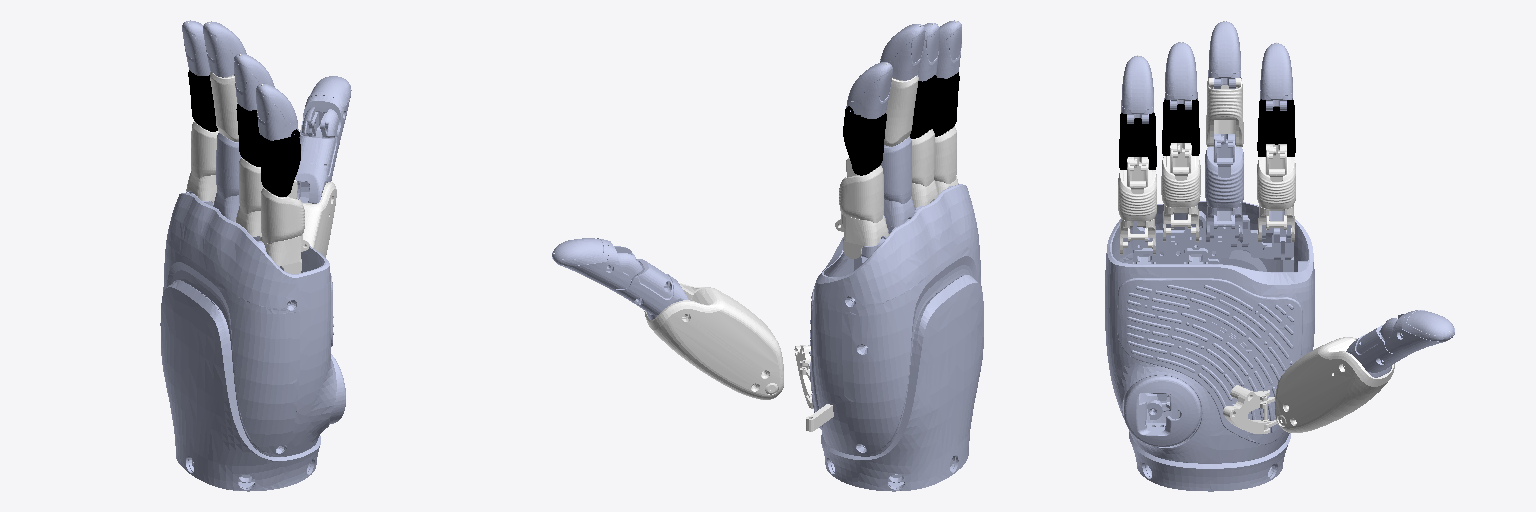
--- What the picture shows (computed from the rendered views, not written in the file) ---
3 views of the same robot in one strip: view 1: azimuth 30°, elevation 25°; view 2: azimuth 150°, elevation 25°; view 3: azimuth 270°, elevation 25° (orthographic).
Robot: O12-T2-r-URDF — 25 links, 24 joints (19 revolute, 5 fixed); root link hand_base_link; default pose: all joints at 0.
Visible links, largest first — view 1: hand_base_link, pinky_proximal, thumb_distal, thumb_proximal, pinky_middle, index_proximal, middle_proximal, pinky_distal, ring_proximal, thumb_metacarpals, middle_distal, middle_middle (+4 smaller); view 2: hand_base_link, thumb_metacarpals, index_proximal, thumb_distal, middle_proximal, index_middle, thumb_proximal, index_distal, middle_middle, middle_distal, ring_proximal, pinky_proximal (+5 smaller); view 3: hand_base_link, thumb_metacarpals, middle_proximal, ring_proximal, pinky_proximal, index_proximal, thumb_distal, middle_middle, pinky_distal, middle_distal, index_distal, ring_distal (+5 smaller).
Boxes of the visible links, x1,y1,x2,y2 form: hand_base_link: (160, 193, 345, 491); pinky_proximal: (260, 180, 309, 273); thumb_distal: (300, 76, 351, 142); thumb_proximal: (295, 127, 339, 203); pinky_middle: (259, 129, 300, 196); index_proximal: (186, 121, 218, 204); middle_proximal: (213, 132, 240, 220); pinky_distal: (256, 83, 298, 140); ring_proximal: (236, 157, 262, 239); thumb_metacarpals: (303, 182, 336, 257); middle_distal: (203, 21, 246, 77); middle_middle: (210, 72, 238, 141); hand_base_link: (809, 184, 983, 491); thumb_metacarpals: (644, 283, 783, 399); index_proximal: (835, 158, 888, 258); thumb_distal: (552, 238, 642, 289); middle_proximal: (881, 136, 914, 232); index_middle: (843, 106, 886, 175); thumb_proximal: (612, 259, 688, 319); index_distal: (846, 62, 892, 118); middle_middle: (884, 75, 918, 146); middle_distal: (880, 24, 925, 80); ring_proximal: (911, 129, 937, 208); pinky_proximal: (915, 126, 958, 209); hand_base_link: (1105, 201, 1314, 491); thumb_metacarpals: (1275, 337, 1394, 432); middle_proximal: (1205, 134, 1243, 241); ring_proximal: (1161, 143, 1200, 241); pinky_proximal: (1118, 157, 1156, 254); index_proximal: (1257, 144, 1295, 241); thumb_distal: (1380, 310, 1454, 355); middle_middle: (1206, 78, 1243, 146); pinky_distal: (1121, 56, 1153, 123); middle_distal: (1208, 21, 1241, 88); index_distal: (1260, 43, 1292, 110); ring_distal: (1164, 42, 1197, 109).
Bounding box of the posed robot: 0.1454 × 0.1627 × 0.2232 m (x, y, z).
25 mesh visuals loaded from 25 distinct referenced files (25 binary STL).

The robot description file, URDF, robot "O12-T2-r-URDF":
<?xml version="1.0" encoding="utf-8"?>
<!-- This URDF was automatically created by SolidWorks to URDF Exporter! Originally created by Stephen Brawner ([email redacted]) 
     Commit Version: 1.6.0-1-g15f4949  Build Version: 1.6.7594.29634
     For more information, please see http://wiki.ros.org/sw_urdf_exporter -->
<robot
  name="O12-T2-r-URDF">
  <link
    name="hand_base_link">
    <inertial>
      <origin
        xyz="-0.00161159551039664 -5.35320731301112E-05 0.0560978412942799"
        rpy="0 0 0" />
      <mass
        value="0.114811257443678" />
      <inertia
        ixx="0.000157668014286336"
        ixy="1.23279816628469E-07"
        ixz="3.41927928857369E-06"
        iyy="8.5350303174068E-05"
        iyz="-3.29579297268573E-06"
        izz="8.65455243809675E-05" />
    </inertial>
    <visual>
      <origin
        xyz="0 0 0"
        rpy="0 0 0" />
      <geometry>
        <mesh
          filename="meshes/hand_base_link.STL" />
      </geometry>
      <material
        name="">
        <color
          rgba="0.792156862745098 0.819607843137255 0.933333333333333 1" />
      </material>
    </visual>
    <collision>
      <origin
        xyz="0 0 0"
        rpy="0 0 0" />
      <geometry>
        <mesh
          filename="meshes/hand_base_link.STL" />
      </geometry>
    </collision>
  </link>
  <link
    name="thumb_metacarpals_base1">
    <inertial>
      <origin
        xyz="0.0128313930736693 -0.000678732032779711 -6.35818794832849E-05"
        rpy="0 0 0" />
      <mass
        value="0.00393646374828629" />
      <inertia
        ixx="5.66342021103653E-07"
        ixy="2.99828694401975E-08"
        ixz="-8.5308152999029E-10"
        iyy="2.92953553344946E-07"
        iyz="1.9125859446091E-08"
        izz="6.19998879375208E-07" />
    </inertial>
    <visual>
      <origin
        xyz="0 0 0"
        rpy="0 0 0" />
      <geometry>
        <mesh
          filename="meshes/thumb_metacarpals_base1.STL" />
      </geometry>
      <material
        name="">
        <color
          rgba="1 1 1 1" />
      </material>
    </visual>
    <collision>
      <origin
        xyz="0 0 0"
        rpy="0 0 0" />
      <geometry>
        <mesh
          filename="meshes/thumb_metacarpals_base1.STL" />
      </geometry>
    </collision>
  </link>
  <joint
    name="thumb_cmc_roll"
    type="revolute">
    <origin
      xyz="-0.0075211 0.022278 0.04025"
      rpy="0 0 0" />
    <parent
      link="hand_base_link" />
    <child
      link="thumb_metacarpals_base1" />
    <axis
      xyz="1 0 0" />
    <limit
      lower="-0.2930"
      upper="0.6489"
      effort="100"
      velocity="1" />
  </joint>
  <link
    name="thumb_metacarpals_base2">
    <inertial>
      <origin
        xyz="0.00581591430824001 0.00635157624424623 0.0030181797779424"
        rpy="0 0 0" />
      <mass
        value="0.00171679583795965" />
      <inertia
        ixx="1.18471956476211E-07"
        ixy="-4.21491727713665E-08"
        ixz="-1.05144206441241E-08"
        iyy="1.14929858642022E-07"
        iyz="-1.74178188232578E-08"
        izz="9.67476477234771E-08" />
    </inertial>
    <visual>
      <origin
        xyz="0 0 0"
        rpy="0 0 0" />
      <geometry>
        <mesh
          filename="meshes/thumb_metacarpals_base2.STL" />
      </geometry>
      <material
        name="">
        <color
          rgba="1 1 1 1" />
      </material>
    </visual>
    <collision>
      <origin
        xyz="0 0 0"
        rpy="0 0 0" />
      <geometry>
        <mesh
          filename="meshes/thumb_metacarpals_base2.STL" />
      </geometry>
    </collision>
  </link>
  <joint
    name="thumb_cmc_yaw"
    type="revolute">
    <origin
      xyz="0.0350706488516897 0.00330139200274943 0"
      rpy="0 0 0" />
    <parent
      link="thumb_metacarpals_base1" />
    <child
      link="thumb_metacarpals_base2" />
    <axis
      xyz="0 0 -1" />
    <limit
      lower="0"
      upper="1.3868"
      effort="100"
      velocity="1" />
  </joint>
  <link
    name="thumb_metacarpals">
    <inertial>
      <origin
        xyz="0.00385872987613253 0.000181218415040837 0.0262735842223975"
        rpy="0 0 0" />
      <mass
        value="0.0170904824194818" />
      <inertia
        ixx="6.63118248451921E-06"
        ixy="-8.89148786987225E-09"
        ixz="-3.40233793822337E-07"
        iyy="8.03870891218123E-06"
        iyz="1.37099535870765E-08"
        izz="1.83070429843817E-06" />
    </inertial>
    <visual>
      <origin
        xyz="0 0 0"
        rpy="0 0 0" />
      <geometry>
        <mesh
          filename="meshes/thumb_metacarpals.STL" />
      </geometry>
      <material
        name="">
        <color
          rgba="1 1 1 1" />
      </material>
    </visual>
    <collision>
      <origin
        xyz="0 0 0"
        rpy="0 0 0" />
      <geometry>
        <mesh
          filename="meshes/thumb_metacarpals.STL" />
      </geometry>
    </collision>
  </link>
  <joint
    name="thumb_cmc_pitch"
    type="revolute">
    <origin
      xyz="0.0161297170352622 0.0163048601861332 0.00686106204760886"
      rpy="0 -0.925290064543775 -2.35079106633742" />
    <parent
      link="thumb_metacarpals_base2" />
    <child
      link="thumb_metacarpals" />
    <axis
      xyz="0 1 0" />
    <limit
      lower="0"
      upper="0.8268"
      effort="100"
      velocity="1" />
  </joint>
  <link
    name="thumb_proximal">
    <inertial>
      <origin
        xyz="-0.00245377652568594 0.00186599902568424 0.0134436674550769"
        rpy="0 0 0" />
      <mass
        value="0.00522967724458737" />
      <inertia
        ixx="4.48792018896274E-07"
        ixy="-9.70789943838585E-10"
        ixz="-7.98090430081374E-08"
        iyy="6.21158736091837E-07"
        iyz="-3.64664957781825E-09"
        izz="2.2512440353929E-07" />
    </inertial>
    <visual>
      <origin
        xyz="0 0 0"
        rpy="0 0 0" />
      <geometry>
        <mesh
          filename="meshes/thumb_proximal.STL" />
      </geometry>
      <material
        name="">
        <color
          rgba="0.792156862745098 0.819607843137255 0.933333333333333 1" />
      </material>
    </visual>
    <collision>
      <origin
        xyz="0 0 0"
        rpy="0 0 0" />
      <geometry>
        <mesh
          filename="meshes/thumb_proximal.STL" />
      </geometry>
    </collision>
  </link>
  <joint
    name="thumb_mcp"
    type="revolute">
    <origin
      xyz="0.00816453404663862 -0.00144999989303646 0.0556339310817644"
      rpy="0 0 0" />
    <parent
      link="thumb_metacarpals" />
    <child
      link="thumb_proximal" />
    <axis
      xyz="0 1 0" />
    <limit
      lower="0"
      upper="1.2908"
      effort="100"
      velocity="1" />
  </joint>
  <link
    name="thumb_distal">
    <inertial>
      <origin
        xyz="0.000428123853169746 2.07014406468898E-05 0.00928509405558531"
        rpy="0 0 0" />
      <mass
        value="0.00521800975168049" />
      <inertia
        ixx="3.59710358459503E-07"
        ixy="-7.03000203960055E-11"
        ixz="7.69465079824501E-08"
        iyy="3.45473494359169E-07"
        iyz="3.06962101858862E-10"
        izz="2.64028535580618E-07" />
    </inertial>
    <visual>
      <origin
        xyz="0 0 0"
        rpy="0 0 0" />
      <geometry>
        <mesh
          filename="meshes/thumb_distal.STL" />
      </geometry>
      <material
        name="">
        <color
          rgba="0.796078431372549 0.823529411764706 0.937254901960784 1" />
      </material>
    </visual>
    <collision>
      <origin
        xyz="0 0 0"
        rpy="0 0 0" />
      <geometry>
        <mesh
          filename="meshes/thumb_distal.STL" />
      </geometry>
    </collision>
  </link>
  <joint
    name="thumb_ip"
    type="revolute">
    <origin
      xyz="-0.00154750718363847 0.00149999983118392 0.0345280593371561"
      rpy="0 0 0" />
    <parent
      link="thumb_proximal" />
    <child
      link="thumb_distal" />
    <axis
      xyz="0 1 0" />
    <limit
      lower="0"
      upper="1.3781"
      effort="100"
      velocity="1" />
  </joint>
  <link
    name="thumb_Virtual_Point">
    <inertial>
      <origin
        xyz="0.000233035989326169 5.00064540250775E-05 4.67970036186205E-05"
        rpy="0 0 0" />
      <mass
        value="5.23598775598299E-07" />
      <inertia
        ixx="5.23598775598299E-14"
        ixy="-6.44905165041911E-31"
        ixz="3.15544362088405E-30"
        iyy="5.23598775598299E-14"
        iyz="-2.42380465218649E-30"
        izz="5.23598775598299E-14" />
    </inertial>
    <visual>
      <origin
        xyz="0 0 0"
        rpy="0 0 0" />
      <geometry>
        <mesh
          filename="meshes/thumb_Virtual_Point.STL" />
      </geometry>
      <material
        name="">
        <color
          rgba="1 1 1 1" />
      </material>
    </visual>
    <collision>
      <origin
        xyz="0 0 0"
        rpy="0 0 0" />
      <geometry>
        <mesh
          filename="meshes/thumb_Virtual_Point.STL" />
      </geometry>
    </collision>
  </link>
  <joint
    name="thumb_Virtual_Point-none"
    type="fixed">
    <origin
      xyz="-0.00661702686299999 -4.99999381474688E-05 0.0315676558844293"
      rpy="0 0 0" />
    <parent
      link="thumb_distal" />
    <child
      link="thumb_Virtual_Point" />
    <axis
      xyz="0 0 0" />
  </joint>
  <link
    name="index_metacarpals">
    <inertial>
      <origin
        xyz="0.00148754096391645 -5.49503463911916E-09 0.0020193309982513"
        rpy="0 0 0" />
      <mass
        value="0.00107972483821526" />
      <inertia
        ixx="3.55597226363628E-08"
        ixy="-9.48374824931894E-16"
        ixz="-2.89707226372672E-09"
        iyy="2.11264180987165E-08"
        iyz="-1.72178782545344E-14"
        izz="3.62864110573929E-08" />
    </inertial>
    <visual>
      <origin
        xyz="0 0 0"
        rpy="0 0 0" />
      <geometry>
        <mesh
          filename="meshes/index_metacarpals.STL" />
      </geometry>
      <material
        name="">
        <color
          rgba="0.792156862745098 0.819607843137255 0.933333333333333 1" />
      </material>
    </visual>
    <collision>
      <origin
        xyz="0 0 0"
        rpy="0 0 0" />
      <geometry>
        <mesh
          filename="meshes/index_metacarpals.STL" />
      </geometry>
    </collision>
  </link>
  <joint
    name="index_mcp_roll"
    type="revolute">
    <origin
      xyz="-0.00719999999308767 0.030778354272632 0.119355702147758"
      rpy="0 0 0" />
    <parent
      link="hand_base_link" />
    <child
      link="index_metacarpals" />
    <axis
      xyz="-1 0 0" />
    <limit
      lower="-0.2616"
      upper="0.2616"
      effort="100"
      velocity="1" />
  </joint>
  <link
    name="index_proximal">
    <inertial>
      <origin
        xyz="-0.0011507020809311 -2.08334184405266E-05 0.0212647300382613"
        rpy="0 0 0" />
      <mass
        value="0.0047795679529425" />
      <inertia
        ixx="5.44832577804325E-07"
        ixy="-9.05372082062046E-11"
        ixz="1.65895588180974E-08"
        iyy="5.41640689587984E-07"
        iyz="-2.49910298343712E-10"
        izz="1.75594690124638E-07" />
    </inertial>
    <visual>
      <origin
        xyz="0 0 0"
        rpy="0 0 0" />
      <geometry>
        <mesh
          filename="meshes/index_proximal.STL" />
      </geometry>
      <material
        name="">
        <color
          rgba="1 1 1 1" />
      </material>
    </visual>
    <collision>
      <origin
        xyz="0 0 0"
        rpy="0 0 0" />
      <geometry>
        <mesh
          filename="meshes/index_proximal.STL" />
      </geometry>
    </collision>
  </link>
  <joint
    name="index_mcp_pitch"
    type="revolute">
    <origin
      xyz="0.00736980261911774 0 0"
      rpy="0 0 0" />
    <parent
      link="index_metacarpals" />
    <child
      link="index_proximal" />
    <axis
      xyz="0 1 0" />
    <limit
      lower="0"
      upper="1.3519"
      effort="100"
      velocity="1" />
  </joint>
  <link
    name="index_middle">
    <inertial>
      <origin
        xyz="0.000582798950647259 -1.66623930000845E-05 0.0134419047168478"
        rpy="0 0 0" />
      <mass
        value="0.00270775195657711" />
      <inertia
        ixx="2.25567812011315E-07"
        ixy="4.76559542406049E-12"
        ixz="5.19477924230877E-09"
        iyy="1.61875481956388E-07"
        iyz="-8.958112771538E-12"
        izz="1.1790038033522E-07" />
    </inertial>
    <visual>
      <origin
        xyz="0 0 0"
        rpy="0 0 0" />
      <geometry>
        <mesh
          filename="meshes/index_middle.STL" />
      </geometry>
      <material
        name="">
        <color
          rgba="0 0 0 1" />
      </material>
    </visual>
    <collision>
      <origin
        xyz="0 0 0"
        rpy="0 0 0" />
      <geometry>
        <mesh
          filename="meshes/index_middle.STL" />
      </geometry>
    </collision>
  </link>
  <joint
    name="index_pip"
    type="revolute">
    <origin
      xyz="-0.00305282449335901 0 0.0399071116817979"
      rpy="0 0 0" />
    <parent
      link="index_proximal" />
    <child
      link="index_middle" />
    <axis
      xyz="0 1 0" />
    <limit
      lower="0"
      upper="1.52"
      effort="100"
      velocity="1" />
  </joint>
  <link
    name="index_distal">
    <inertial>
      <origin
        xyz="-0.00721640324456499 -3.10526118675776E-05 0.00510323974876059"
        rpy="0 0 0" />
      <mass
        value="0.00258259704107596" />
      <inertia
        ixx="1.30227806624487E-07"
        ixy="1.19687371568575E-10"
        ixz="4.12783102703161E-08"
        iyy="1.36472647538679E-07"
        iyz="-3.14466372715903E-10"
        izz="1.01017185875891E-07" />
    </inertial>
    <visual>
      <origin
        xyz="0 0 0"
        rpy="0 0 0" />
      <geometry>
        <mesh
          filename="meshes/index_distal.STL" />
      </geometry>
      <material
        name="">
        <color
          rgba="0.792156862745098 0.819607843137255 0.933333333333333 1" />
      </material>
    </visual>
    <collision>
      <origin
        xyz="0 0 0"
        rpy="0 0 0" />
      <geometry>
        <mesh
          filename="meshes/index_distal.STL" />
      </geometry>
    </collision>
  </link>
  <joint
    name="index_dip"
    type="revolute">
    <origin
      xyz="0.00530686089658646 0 0.0265922869892696"
      rpy="0 0 0" />
    <parent
      link="index_middle" />
    <child
      link="index_distal" />
    <axis
      xyz="0 1 0" />
    <limit
      lower="0"
      upper="1.369"
      effort="100"
      velocity="1" />
  </joint>
  <link
    name="index_Virtual_Point">
    <inertial>
      <origin
        xyz="2.59494682686157E-12 1.08447278934776E-12 -2.77555756156289E-17"
        rpy="0 0 0" />
      <mass
        value="5.23598775598299E-07" />
      <inertia
        ixx="5.23598775598299E-14"
        ixy="1.25598008635388E-40"
        ixz="9.28286640364503E-41"
        iyy="5.23598775598299E-14"
        iyz="1.09865815136825E-30"
        izz="5.23598775598299E-14" />
    </inertial>
    <visual>
      <origin
        xyz="0 0 0"
        rpy="0 0 0" />
      <geometry>
        <mesh
          filename="meshes/index_Virtual_Point.STL" />
      </geometry>
      <material
        name="">
        <color
          rgba="1 1 1 1" />
      </material>
    </visual>
    <collision>
      <origin
        xyz="0 0 0"
        rpy="0 0 0" />
      <geometry>
        <mesh
          filename="meshes/index_Virtual_Point.STL" />
      </geometry>
    </collision>
  </link>
  <joint
    name="index_Virtual_Point-none"
    type="fixed">
    <origin
      xyz="-0.0152816370939128 0 0.0240371666710466"
      rpy="0 0 0" />
    <parent
      link="index_distal" />
    <child
      link="index_Virtual_Point" />
    <axis
      xyz="0 0 0" />
  </joint>
  <link
    name="middle_metacarpals">
    <inertial>
      <origin
        xyz="0.00148754096057072 3.28886513297454E-06 0.00201932832117667"
        rpy="0 0 0" />
      <mass
        value="0.00107972484789827" />
      <inertia
        ixx="3.55597227804492E-08"
        ixy="-4.72744773072463E-12"
        ixz="-2.89706838785042E-09"
        iyy="2.11264584194102E-08"
        iyz="2.47147540874508E-11"
        izz="3.62863711473445E-08" />
    </inertial>
    <visual>
      <origin
        xyz="0 0 0"
        rpy="0 0 0" />
      <geometry>
        <mesh
          filename="meshes/middle_metacarpals.STL" />
      </geometry>
      <material
        name="">
        <color
          rgba="0.792156862745098 0.819607843137255 0.933333333333333 1" />
      </material>
    </visual>
    <collision>
      <origin
        xyz="0 0 0"
        rpy="0 0 0" />
      <geometry>
        <mesh
          filename="meshes/middle_metacarpals.STL" />
      </geometry>
    </collision>
  </link>
  <joint
    name="middle_mcp_roll"
    type="revolute">
    <origin
      xyz="-0.00720002856790489 0.00666067883725946 0.119355672566023"
      rpy="0 0 0" />
    <parent
      link="hand_base_link" />
    <child
      link="middle_metacarpals" />
    <axis
      xyz="-1 0 0" />
    <limit
      lower="-0.26"
      upper="0.26"
      effort="100"
      velocity="1" />
  </joint>
  <link
    name="middle_proximal">
    <inertial>
      <origin
        xyz="-0.00165985032192234 6.30950482594017E-05 0.0236220231228174"
        rpy="0 0 0" />
      <mass
        value="0.0055122415444485" />
      <inertia
        ixx="7.79066281858944E-07"
        ixy="4.80058757068528E-11"
        ixz="3.22743653411331E-08"
        iyy="7.60600012773068E-07"
        iyz="-1.49750195774983E-09"
        izz="2.05882994190045E-07" />
    </inertial>
    <visual>
      <origin
        xyz="0 0 0"
        rpy="0 0 0" />
      <geometry>
        <mesh
          filename="meshes/middle_proximal.STL" />
      </geometry>
      <material
        name="">
        <color
          rgba="0.792156862745098 0.819607843137255 0.933333333333333 1" />
      </material>
    </visual>
    <collision>
      <origin
        xyz="0 0 0"
        rpy="0 0 0" />
      <geometry>
        <mesh
          filename="meshes/middle_proximal.STL" />
      </geometry>
    </collision>
  </link>
  <joint
    name="middle_mcp_pitch"
    type="revolute">
    <origin
      xyz="0.00736980261904721 0 0"
      rpy="0 0 0" />
    <parent
      link="middle_metacarpals" />
    <child
      link="middle_proximal" />
    <axis
      xyz="0 0.999998669223613 -0.00163142606439766" />
    <limit
      lower="0"
      upper="1.35"
      effort="100"
      velocity="1" />
  </joint>
  <link
    name="middle_middle">
    <inertial>
      <origin
        xyz="-0.000230368247225323 5.52667321999743E-05 0.01619749717231"
        rpy="0 0 0" />
      <mass
        value="0.00314204808883818" />
      <inertia
        ixx="3.20092678111392E-07"
        ixy="-1.08641100687577E-11"
        ixz="1.53074298945201E-08"
        iyy="2.47015765909473E-07"
        iyz="-1.53970978537133E-10"
        izz="1.35843361683385E-07" />
    </inertial>
    <visual>
      <origin
        xyz="0 0 0"
        rpy="0 0 0" />
      <geometry>
        <mesh
          filename="meshes/middle_middle.STL" />
      </geometry>
      <material
        name="">
        <color
          rgba="1 1 1 1" />
      </material>
    </visual>
    <collision>
      <origin
        xyz="0 0 0"
        rpy="0 0 0" />
      <geometry>
        <mesh
          filename="meshes/middle_middle.STL" />
      </geometry>
    </collision>
  </link>
  <joint
    name="middle_pip"
    type="revolute">
    <origin
      xyz="-0.004144 7.3133E-05 0.044828"
      rpy="0 0 0" />
    <parent
      link="middle_proximal" />
    <child
      link="middle_middle" />
    <axis
      xyz="0 1 -0.0016314" />
    <limit
      lower="0"
      upper="1.814"
      effort="100"
      velocity="1" />
  </joint>
  <link
    name="middle_distal">
    <inertial>
      <origin
        xyz="-0.00724758468028898 -2.27990144281735E-05 0.00505893372906674"
        rpy="0 0 0" />
      <mass
        value="0.00258260294313138" />
      <inertia
        ixx="1.29720848656837E-07"
        ixy="1.8924389897908E-10"
        ixz="4.14544297269987E-08"
        iyy="1.36472188916914E-07"
        iyz="-3.70737066885826E-10"
        izz="1.01526072268206E-07" />
    </inertial>
    <visual>
      <origin
        xyz="0 0 0"
        rpy="0 0 0" />
      <geometry>
        <mesh
          filename="meshes/middle_distal.STL" />
      </geometry>
      <material
        name="">
        <color
          rgba="0.792156862745098 0.819607843137255 0.933333333333333 1" />
      </material>
    </visual>
    <collision>
      <origin
        xyz="0 0 0"
        rpy="0 0 0" />
      <geometry>
        <mesh
          filename="meshes/middle_distal.STL" />
      </geometry>
    </collision>
  </link>
  <joint
    name="middle_dip"
    type="revolute">
    <origin
      xyz="0.00362953932909984 5.15731342090597E-05 0.031612259069028"
      rpy="0 0 0" />
    <parent
      link="middle_middle" />
    <child
      link="middle_distal" />
    <axis
      xyz="0 0.99999866922354 -0.0016314261089444" />
    <limit
      lower="0"
      upper="1.256"
      effort="100"
      velocity="1" />
  </joint>
  <link
    name="middle_Virtual_Point">
    <inertial>
      <origin
        xyz="4.81580053612873E-13 1.33037331151442E-12 -6.74460487459783E-15"
        rpy="0 0 0" />
      <mass
        value="5.23598775598299E-07" />
      <inertia
        ixx="5.23598775598299E-14"
        ixy="-4.90325426925644E-42"
        ixz="1.17662710661929E-40"
        iyy="5.23598775598299E-14"
        iyz="1.29845462914076E-30"
        izz="5.23598775598299E-14" />
    </inertial>
    <visual>
      <origin
        xyz="0 0 0"
        rpy="0 0 0" />
      <geometry>
        <mesh
          filename="meshes/middle_Virtual_Point.STL" />
      </geometry>
      <material
        name="">
        <color
          rgba="1 1 1 1" />
      </material>
    </visual>
    <collision>
      <origin
        xyz="0 0 0"
        rpy="0 0 0" />
      <geometry>
        <mesh
          filename="meshes/middle_Virtual_Point.STL" />
      </geometry>
    </collision>
  </link>
  <joint
    name="middle_Virtual_Point-none"
    type="fixed">
    <origin
      xyz="-0.0154287963750709 3.90611932357243E-05 0.0239429432292471"
      rpy="0 0 0" />
    <parent
      link="middle_distal" />
    <child
      link="middle_Virtual_Point" />
    <axis
      xyz="0 0 0" />
  </joint>
  <link
    name="ring_proximal">
    <inertial>
      <origin
        xyz="-0.00161802170047008 -2.08220096852268E-05 0.0212342177709951"
        rpy="0 0 0" />
      <mass
        value="0.0047795328266326" />
      <inertia
        ixx="5.43923252152409E-07"
        ixy="-8.48896522637981E-11"
        ixz="2.4689478865027E-08"
        iyy="5.41640127982143E-07"
        iyz="-2.5218290048469E-10"
        izz="1.76501748993068E-07" />
    </inertial>
    <visual>
      <origin
        xyz="0 0 0"
        rpy="0 0 0" />
      <geometry>
        <mesh
          filename="meshes/ring_proximal.STL" />
      </geometry>
      <material
        name="">
        <color
          rgba="1 1 1 1" />
      </material>
    </visual>
    <collision>
      <origin
        xyz="0 0 0"
        rpy="0 0 0" />
      <geometry>
        <mesh
          filename="meshes/ring_proximal.STL" />
      </geometry>
    </collision>
  </link>
  <joint
    name="ring_mcp_pitch"
    type="revolute">
    <origin
      xyz="0.0001598 -0.013573 0.11972"
      rpy="0 0 0" />
    <parent
      link="hand_base_link" />
    <child
      link="ring_proximal" />
    <axis
      xyz="0 1 0" />
    <limit
      lower="0"
      upper="1.55"
      effort="100"
      velocity="1" />
  </joint>
  <link
    name="ring_middle">
    <inertial>
      <origin
        xyz="0.000940340714750308 -1.66667751162405E-05 0.0134216382614548"
        rpy="0 0 0" />
      <mass
        value="0.0027077533496335" />
      <inertia
        ixx="2.25767846748625E-07"
        ixy="4.61360531413437E-12"
        ixz="2.32301202429608E-09"
        iyy="1.61875511170868E-07"
        iyz="-9.05860342855209E-12"
        izz="1.17700137222491E-07" />
    </inertial>
    <visual>
      <origin
        xyz="0 0 0"
        rpy="0 0 0" />
      <geometry>
        <mesh
          filename="meshes/ring_middle.STL" />
      </geometry>
      <material
        name="">
        <color
          rgba="0 0 0 1" />
      </material>
    </visual>
    <collision>
      <origin
        xyz="0 0 0"
        rpy="0 0 0" />
      <geometry>
        <mesh
          filename="meshes/ring_middle.STL" />
      </geometry>
    </collision>
  </link>
  <joint
    name="ring_pip"
    type="revolute">
    <origin
      xyz="-0.0039295 0 0.03983"
      rpy="0 0 0" />
    <parent
      link="ring_proximal" />
    <child
      link="ring_middle" />
    <axis
      xyz="0 1 0" />
    <limit
      lower="0"
      upper="1.439"
      effort="100"
      velocity="1" />
  </joint>
  <link
    name="ring_distal">
    <inertial>
      <origin
        xyz="-0.00679183129010172 -3.1051267307786E-05 0.00565592901618503"
        rpy="0 0 0" />
      <mass
        value="0.00258259127175773" />
      <inertia
        ixx="1.36530380213342E-07"
        ixy="9.44469863763946E-11"
        ixz="3.84707548646242E-08"
        iyy="1.36471612117152E-07"
        iyz="-3.22664356287902E-10"
        izz="9.47134934031493E-08" />
    </inertial>
    <visual>
      <origin
        xyz="0 0 0"
        rpy="0 0 0" />
      <geometry>
        <mesh
          filename="meshes/ring_distal.STL" />
      </geometry>
      <material
        name="">
        <color
          rgba="0.792156862745098 0.819607843137255 0.933333333333333 1" />
      </material>
    </visual>
    <collision>
      <origin
        xyz="0 0 0"
        rpy="0 0 0" />
      <geometry>
        <mesh
          filename="meshes/ring_distal.STL" />
      </geometry>
    </collision>
  </link>
  <joint
    name="ring_dip"
    type="revolute">
    <origin
      xyz="0.00601275714854613 0 0.0264415298059948"
      rpy="0 0 0" />
    <parent
      link="ring_middle" />
    <child
      link="ring_distal" />
    <axis
      xyz="0 1 0" />
    <limit
      lower="0"
      upper="1.3257"
      effort="100"
      velocity="1" />
  </joint>
  <link
    name="ring_Virtual_Point">
    <inertial>
      <origin
        xyz="-1.13526896217131E-12 9.35964847292858E-13 5.27355936696949E-16"
        rpy="0 0 0" />
      <mass
        value="5.23598775598299E-07" />
      <inertia
        ixx="5.23598775598299E-14"
        ixy="1.58205846501508E-40"
        ixz="1.56203013032883E-40"
        iyy="5.23598775598299E-14"
        iyz="1.85037170770859E-30"
        izz="5.23598775598299E-14" />
    </inertial>
    <visual>
      <origin
        xyz="0 0 0"
        rpy="0 0 0" />
      <geometry>
        <mesh
          filename="meshes/ring_Virtual_Point.STL" />
      </geometry>
      <material
        name="">
        <color
          rgba="1 1 1 1" />
      </material>
    </visual>
    <collision>
      <origin
        xyz="0 0 0"
        rpy="0 0 0" />
      <geometry>
        <mesh
          filename="meshes/ring_Virtual_Point.STL" />
      </geometry>
    </collision>
  </link>
  <joint
    name="ring_Virtual_Point-none"
    type="fixed">
    <origin
      xyz="-0.01334 0 0.025167"
      rpy="0 0 0" />
    <parent
      link="ring_distal" />
    <child
      link="ring_Virtual_Point" />
    <axis
      xyz="0 0 0" />
  </joint>
  <link
    name="pinky_proximal">
    <inertial>
      <origin
        xyz="-0.0016180221168521 -2.08215074695289E-05 0.0212342179851402"
        rpy="0 0 0" />
      <mass
        value="0.00477953323340541" />
      <inertia
        ixx="5.43923274544673E-07"
        ixy="-8.48863445397533E-11"
        ixz="2.46894910332365E-08"
        iyy="5.41640168354855E-07"
        iyz="-2.52187730642466E-10"
        izz="1.7650175778066E-07" />
    </inertial>
    <visual>
      <origin
        xyz="0 0 0"
        rpy="0 0 0" />
      <geometry>
        <mesh
          filename="meshes/pinky_proximal.STL" />
      </geometry>
      <material
        name="">
        <color
          rgba="1 1 1 1" />
      </material>
    </visual>
    <collision>
      <origin
        xyz="0 0 0"
        rpy="0 0 0" />
      <geometry>
        <mesh
          filename="meshes/pinky_proximal.STL" />
      </geometry>
    </collision>
  </link>
  <joint
    name="pinky_mcp_pitch"
    type="revolute">
    <origin
      xyz="0.000159802654372855 -0.0336303181952511 0.11271621059493"
      rpy="0 0 0" />
    <parent
      link="hand_base_link" />
    <child
      link="pinky_proximal" />
    <axis
      xyz="0 1 0" />
    <limit
      lower="0"
      upper="1.535"
      effort="100"
      velocity="1" />
  </joint>
  <link
    name="pinky_middle">
    <inertial>
      <origin
        xyz="0.000940340979638598 -1.66665156724755E-05 0.0134216381434371"
        rpy="0 0 0" />
      <mass
        value="0.00270775345292578" />
      <inertia
        ixx="2.25767855959524E-07"
        ixy="4.61316580602277E-12"
        ixz="2.32301150942084E-09"
        iyy="1.61875516933061E-07"
        iyz="-9.05509549786009E-12"
        izz="1.17700140839825E-07" />
    </inertial>
    <visual>
      <origin
        xyz="0 0 0"
        rpy="0 0 0" />
      <geometry>
        <mesh
          filename="meshes/pinky_middle.STL" />
      </geometry>
      <material
        name="">
        <color
          rgba="0 0 0 1" />
      </material>
    </visual>
    <collision>
      <origin
        xyz="0 0 0"
        rpy="0 0 0" />
      <geometry>
        <mesh
          filename="meshes/pinky_middle.STL" />
      </geometry>
    </collision>
  </link>
  <joint
    name="pinky_pip"
    type="revolute">
    <origin
      xyz="-0.00392950397727024 0 0.0398303439412377"
      rpy="0 0 0" />
    <parent
      link="pinky_proximal" />
    <child
      link="pinky_middle" />
    <axis
      xyz="0 1 0" />
    <limit
      lower="0"
      upper="1.413"
      effort="100"
      velocity="1" />
  </joint>
  <link
    name="pinky_distal">
    <inertial>
      <origin
        xyz="-0.00679190409450586 -3.10511081597076E-05 0.00565584201307923"
        rpy="0 0 0" />
      <mass
        value="0.00258259141809727" />
      <inertia
        ixx="1.36529403216541E-07"
        ixy="9.44507918542087E-11"
        ixz="3.84712982116646E-08"
        iyy="1.36471628325979E-07"
        iyz="-3.22662637208023E-10"
        izz="9.47144825482917E-08" />
    </inertial>
    <visual>
      <origin
        xyz="0 0 0"
        rpy="0 0 0" />
      <geometry>
        <mesh
          filename="meshes/pinky_distal.STL" />
      </geometry>
      <material
        name="">
        <color
          rgba="0.792156862745098 0.819607843137255 0.933333333333333 1" />
      </material>
    </visual>
    <collision>
      <origin
        xyz="0 0 0"
        rpy="0 0 0" />
      <geometry>
        <mesh
          filename="meshes/pinky_distal.STL" />
      </geometry>
    </collision>
  </link>
  <joint
    name="pinky_dip"
    type="revolute">
    <origin
      xyz="0.00601270306428537 0 0.0264416319816371"
      rpy="0 0 0" />
    <parent
      link="pinky_middle" />
    <child
      link="pinky_distal" />
    <axis
      xyz="0 1 0" />
    <limit
      lower="0"
      upper="1.325"
      effort="100"
      velocity="1" />
  </joint>
  <link
    name="pinky_Virtual_Point">
    <inertial>
      <origin
        xyz="-2.83552521740393E-12 9.35987398698046E-13 8.32667268468867E-17"
        rpy="0 0 0" />
      <mass
        value="5.23598775598299E-07" />
      <inertia
        ixx="5.23598775598299E-14"
        ixy="3.70623385375214E-40"
        ixz="1.56278809626202E-40"
        iyy="5.23598775598299E-14"
        iyz="1.85037170770859E-30"
        izz="5.23598775598299E-14" />
    </inertial>
    <visual>
      <origin
        xyz="0 0 0"
        rpy="0 0 0" />
      <geometry>
        <mesh
          filename="meshes/pinky_Virtual_Point.STL" />
      </geometry>
      <material
        name="">
        <color
          rgba="1 1 1 1" />
      </material>
    </visual>
    <collision>
      <origin
        xyz="0 0 0"
        rpy="0 0 0" />
      <geometry>
        <mesh
          filename="meshes/pinky_Virtual_Point.STL" />
      </geometry>
    </collision>
  </link>
  <joint
    name="pinky_Virtual_Point-none"
    type="fixed">
    <origin
      xyz="-0.0133404537520391 0 0.0251663685805378"
      rpy="0 0 0" />
    <parent
      link="pinky_distal" />
    <child
      link="pinky_Virtual_Point" />
    <axis
      xyz="0 0 0" />
  </joint>
</robot>
